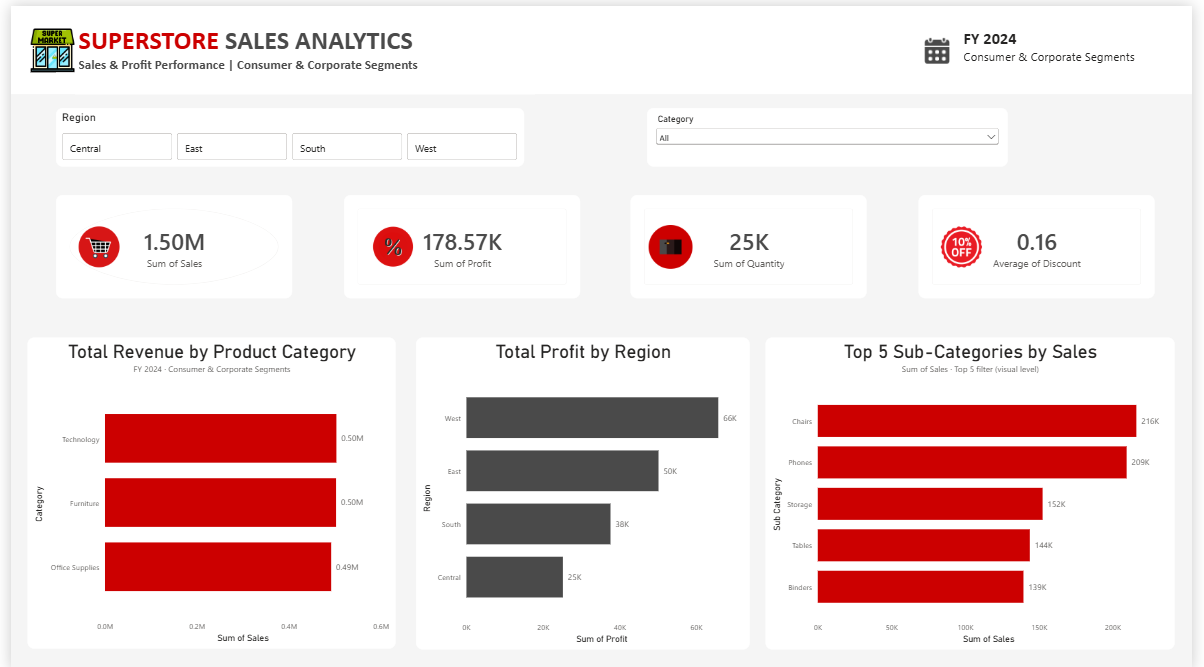

What the dashboard file says about the page in this screenshot:
{"tool":"powerbi","page":{"name":"Overview","canvas":[1920,1080],"ordinal":0},"visuals":[{"type":"cardVisual","fields":{"Data":["Sum(Superstore.Profit)"]},"box":[540.8,307.8,384,168],"z":0},{"type":"cardVisual","fields":{"Data":["Sum(Superstore.Quantity)"]},"box":[1007.7,307.8,384,168],"z":1000},{"type":"cardVisual","fields":{"Data":["Avg(Superstore.Discount)"]},"box":[1474.5,307.8,384,168],"z":2000},{"type":"cardVisual","fields":{"Data":["Sum(Superstore.Sales)"]},"box":[74,307.8,384,168],"z":3000},{"type":"clusteredBarChart","title":"Total Revenue by Product Category","fields":{"Category":["Superstore.Category"],"Y":["Sum(Superstore.Sales)"]},"box":[27.5,540,598.9,505.8],"z":4000},{"type":"clusteredBarChart","title":"Total Profit by Region","fields":{"Category":["Superstore.Region"],"Y":["Sum(Superstore.Profit)"]},"box":[657.5,540,542.5,507.5],"z":5000},{"type":"advancedSlicerVisual","fields":{"Values":["Superstore.Region"]},"box":[74,167,761.1,95.4],"z":6000},{"type":"clusteredBarChart","title":"Top 5 Sub-Categories by Sales","fields":{"Category":["Superstore.Sub Category"],"Y":["Sum(Superstore.Sales)"]},"box":[1227.5,540,665,507.5],"z":7000},{"type":"slicer","fields":{"Values":["Superstore.Category"]},"box":[1033.1,167,586.9,95.4],"z":8000},{"type":"shape","box":[0,0,1920.7,143.2],"z":9000},{"type":"group","id":"g1","title":"Group 1","box":[105,23.9,1813.3,119.3],"z":10000},{"type":"textbox","box":[105,23.9,746.9,119.3],"z":11000,"group":"g1"},{"type":"image","box":[28.6,35.8,76.3,71.6],"z":11000},{"type":"textbox","box":[1545,30.8,373.3,78.3],"z":12000,"group":"g1"},{"type":"image","box":[105,355.5,76.3,71.6],"z":12000},{"type":"image","box":[582.2,355.5,76.3,71.6],"z":13000},{"type":"image","box":[1033.1,355.5,76.3,71.6],"z":14000},{"type":"image","box":[1506.7,356.7,76.3,71.6],"z":15000},{"type":"image","box":[1466.1,47.5,80,47.7],"z":18000,"group":"g1"}]}

Visuals, with their boxes in screenshot pixels (x1, y1, x2, y2), scaled from the page's 1920x1080 canvas onto the 1204x667 screenshot:
cardVisual - Sum(Superstore.Profit): crop(339, 190, 580, 294)
cardVisual - Sum(Superstore.Quantity): crop(632, 190, 873, 294)
cardVisual - Avg(Superstore.Discount): crop(925, 190, 1165, 294)
cardVisual - Sum(Superstore.Sales): crop(46, 190, 287, 294)
"Total Revenue by Product Category" clusteredBarChart: crop(17, 334, 393, 646)
"Total Profit by Region" clusteredBarChart: crop(412, 334, 752, 647)
advancedSlicerVisual - Superstore.Region: crop(46, 103, 524, 162)
"Top 5 Sub-Categories by Sales" clusteredBarChart: crop(770, 334, 1187, 647)
slicer - Superstore.Category: crop(648, 103, 1016, 162)
shape: crop(0, 0, 1203, 88)
"Group 1" group: crop(66, 15, 1203, 88)
textbox: crop(66, 15, 534, 88)
image: crop(18, 22, 66, 66)
textbox: crop(969, 19, 1203, 67)
image: crop(66, 220, 114, 264)
image: crop(365, 220, 413, 264)
image: crop(648, 220, 696, 264)
image: crop(945, 220, 993, 265)
image: crop(919, 29, 970, 59)
